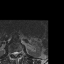CCS_normal: (15, 49, 16, 58)
LFS_normal: (18, 49, 20, 55)
LLS_normal: (16, 49, 18, 56)
RFS_normal: (11, 50, 13, 56)
RLS_normal: (13, 49, 15, 56)
